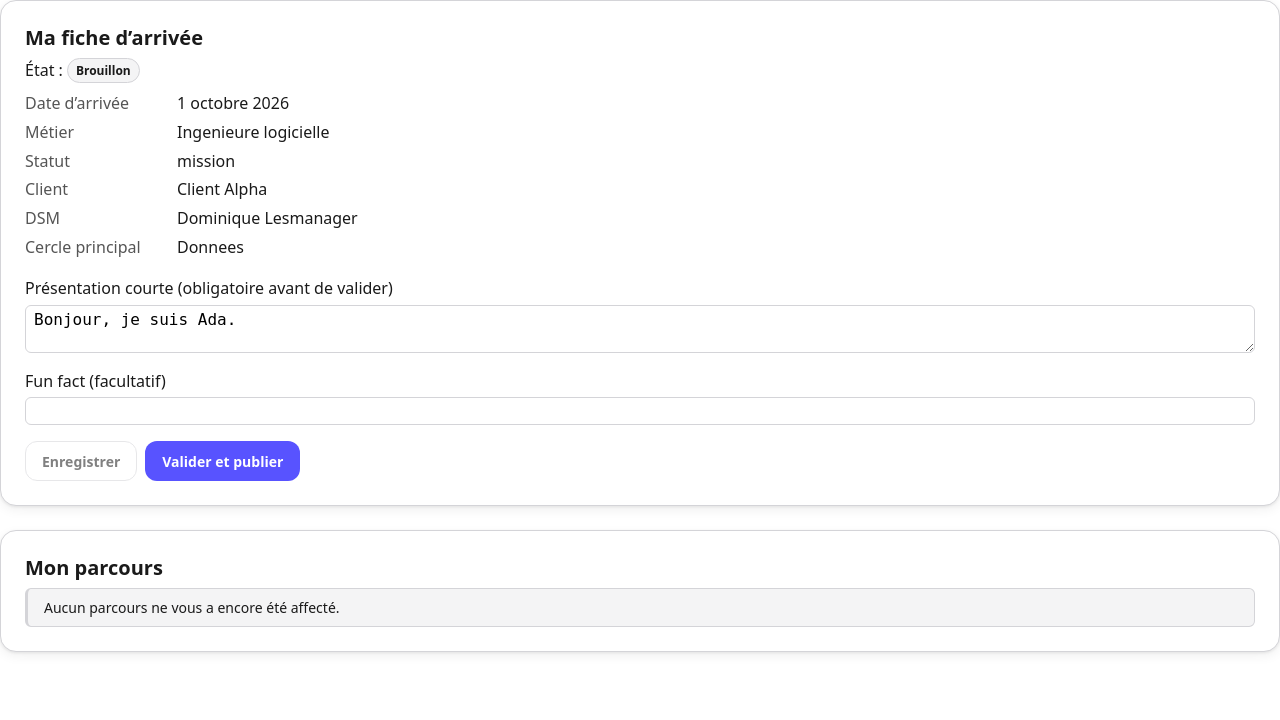
Test case: la fiche d’arrivée — brouillon › rapporte le refus en 422 — présentation manquante
Expected: the text box labelled "Présentation courte (obligatoire avant de valider)" is shown, x1=25 y1=305 x2=1255 y2=353
Click the button "Valider et publier" at (223,461), box x1=145 y1=441 x2=300 y2=481
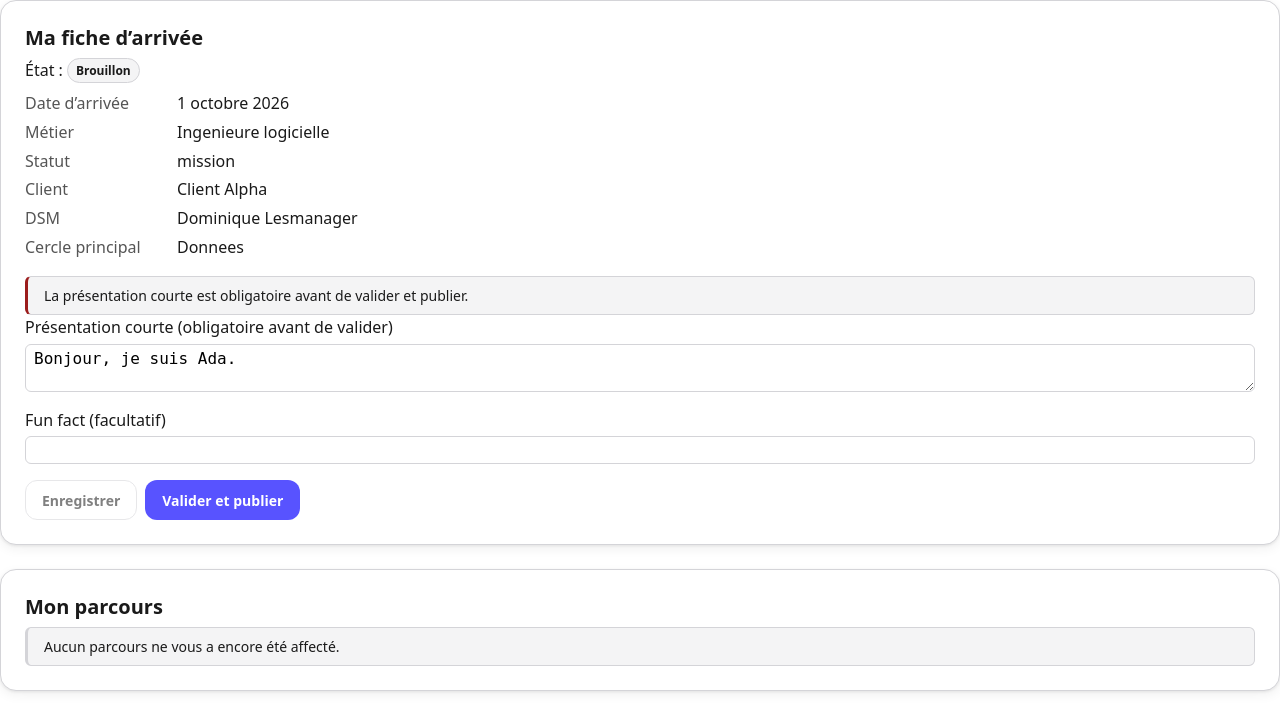
Expected: the text "La présentation courte est obligatoire avant de valider et publier." is shown, x1=25 y1=276 x2=1255 y2=315
